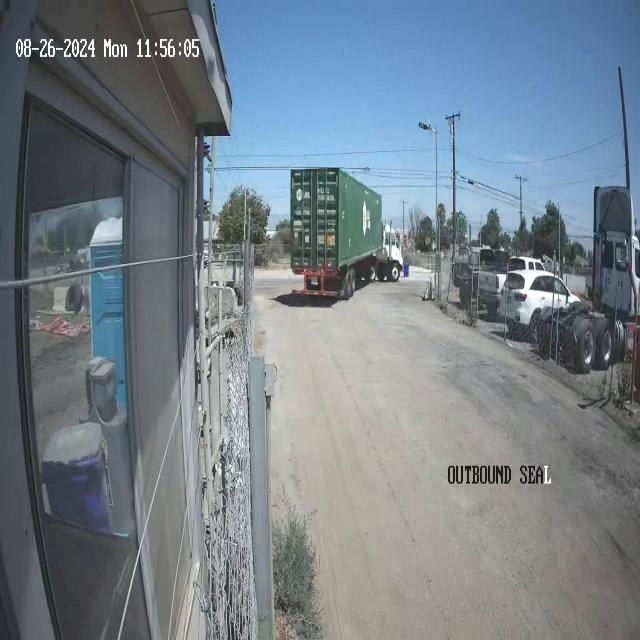CONTAINER: (290, 166, 382, 275)
